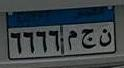6: (10, 30, 22, 57), (22, 30, 35, 54), (48, 27, 60, 52), (35, 29, 47, 54)
jeem: (80, 28, 96, 51)
meem: (66, 29, 77, 50)
noon: (98, 25, 113, 49)
